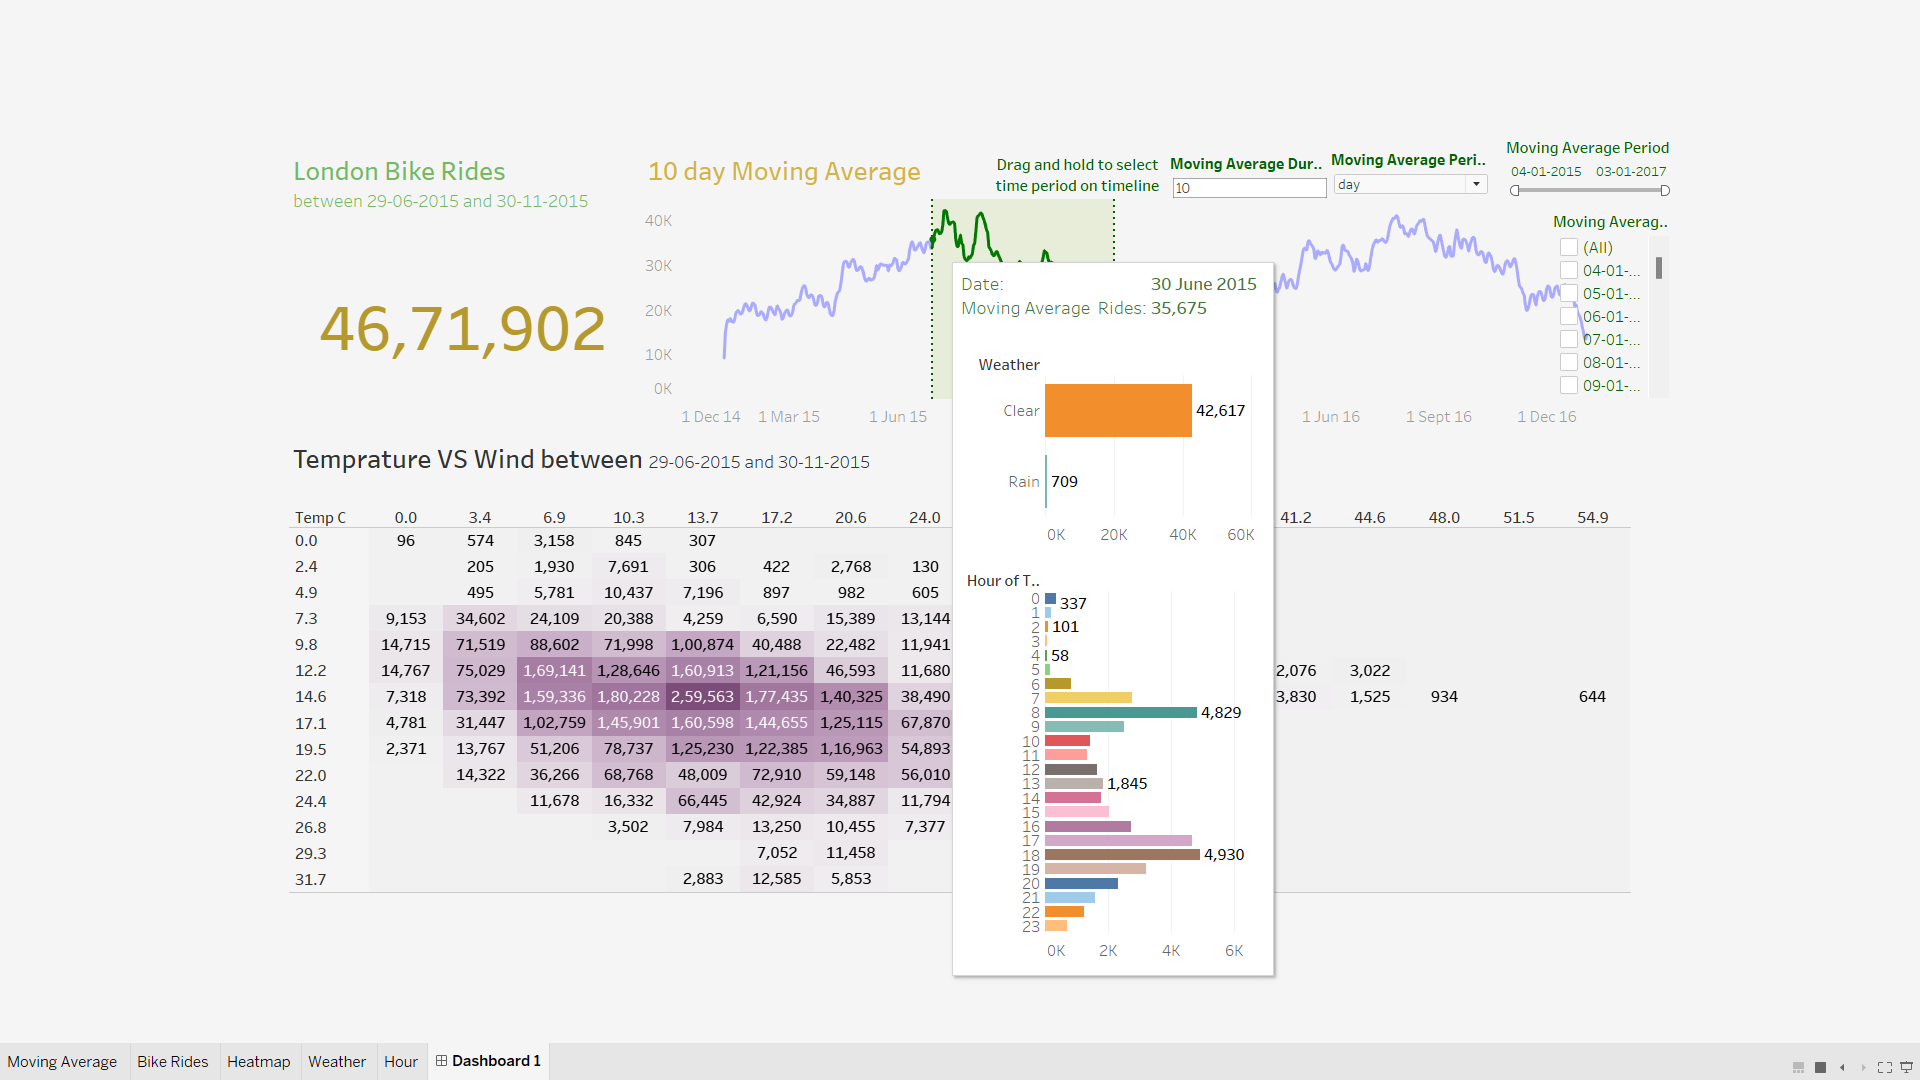

The dashboard page shown, as its layout file describes it:
{"tool":"tableau","page":{"name":"Dashboard 1","canvas":[1366,768],"ordinal":0},"visuals":[{"type":"worksheet","title":"Bike Rides","mark":"Automatic","box":[8,8,355,288]},{"type":"worksheet","title":"Moving Average","mark":"Automatic","rows":["Calculation1"],"cols":["Calculation_184929103509639168"],"box":[363,8,995,288]},{"type":"parameter","param":"[Parameters].[Parameter 1]","box":[1054,12,160,48]},{"type":"parameter","param":"[Parameters].[Parameter 2]","box":[893,16,160,48]},{"type":"text","box":[715,17,171,42]},{"type":"worksheet","title":"Heatmap","mark":"Square","rows":["temp real C (bin)"],"cols":["Wind Speed Kph (bin)"],"box":[8,296,1350,464]}]}

Visuals, with their boxes on the page's 1366x768 design canvas (x1, y1, x2, y2). These are canvas units, not pixel positions in the 1920x1080 screenshot, which may show the page scaled, cropped or inside an application window:
"Bike Rides" worksheet: (x1=8, y1=8, x2=363, y2=296)
"Moving Average" worksheet: (x1=363, y1=8, x2=1358, y2=296)
parameter: (x1=1054, y1=12, x2=1214, y2=60)
parameter: (x1=893, y1=16, x2=1053, y2=64)
text: (x1=715, y1=17, x2=886, y2=59)
"Heatmap" worksheet (Square marks): (x1=8, y1=296, x2=1358, y2=760)
